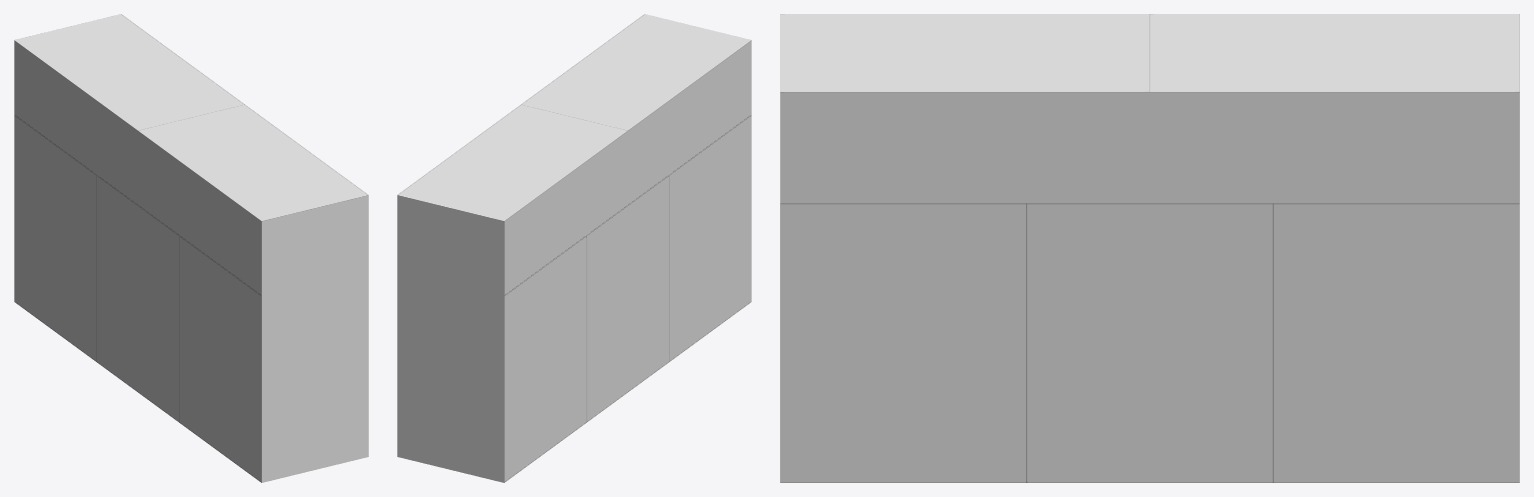
The model's file is Wall_Int_Normal_01.FBX.
The picture shows the model from 3 angles, left to right: view 1: azimuth 30°, elevation 25°; view 2: azimuth 150°, elevation 25°; view 3: azimuth 270°, elevation 25°; orthographic projection. The views are drawn at different scales.
Visible parts, largest first — view 1: Wall_Int_Normal_01; view 2: Wall_Int_Normal_01; view 3: Wall_Int_Normal_01.
Boxes of the visible parts, x1=… form: Wall_Int_Normal_01: x1=14, y1=14, x2=368, y2=482; Wall_Int_Normal_01: x1=397, y1=14, x2=751, y2=482; Wall_Int_Normal_01: x1=780, y1=14, x2=1519, y2=482.
Bounding box in the file's own units: 3 × 7 × 12.
